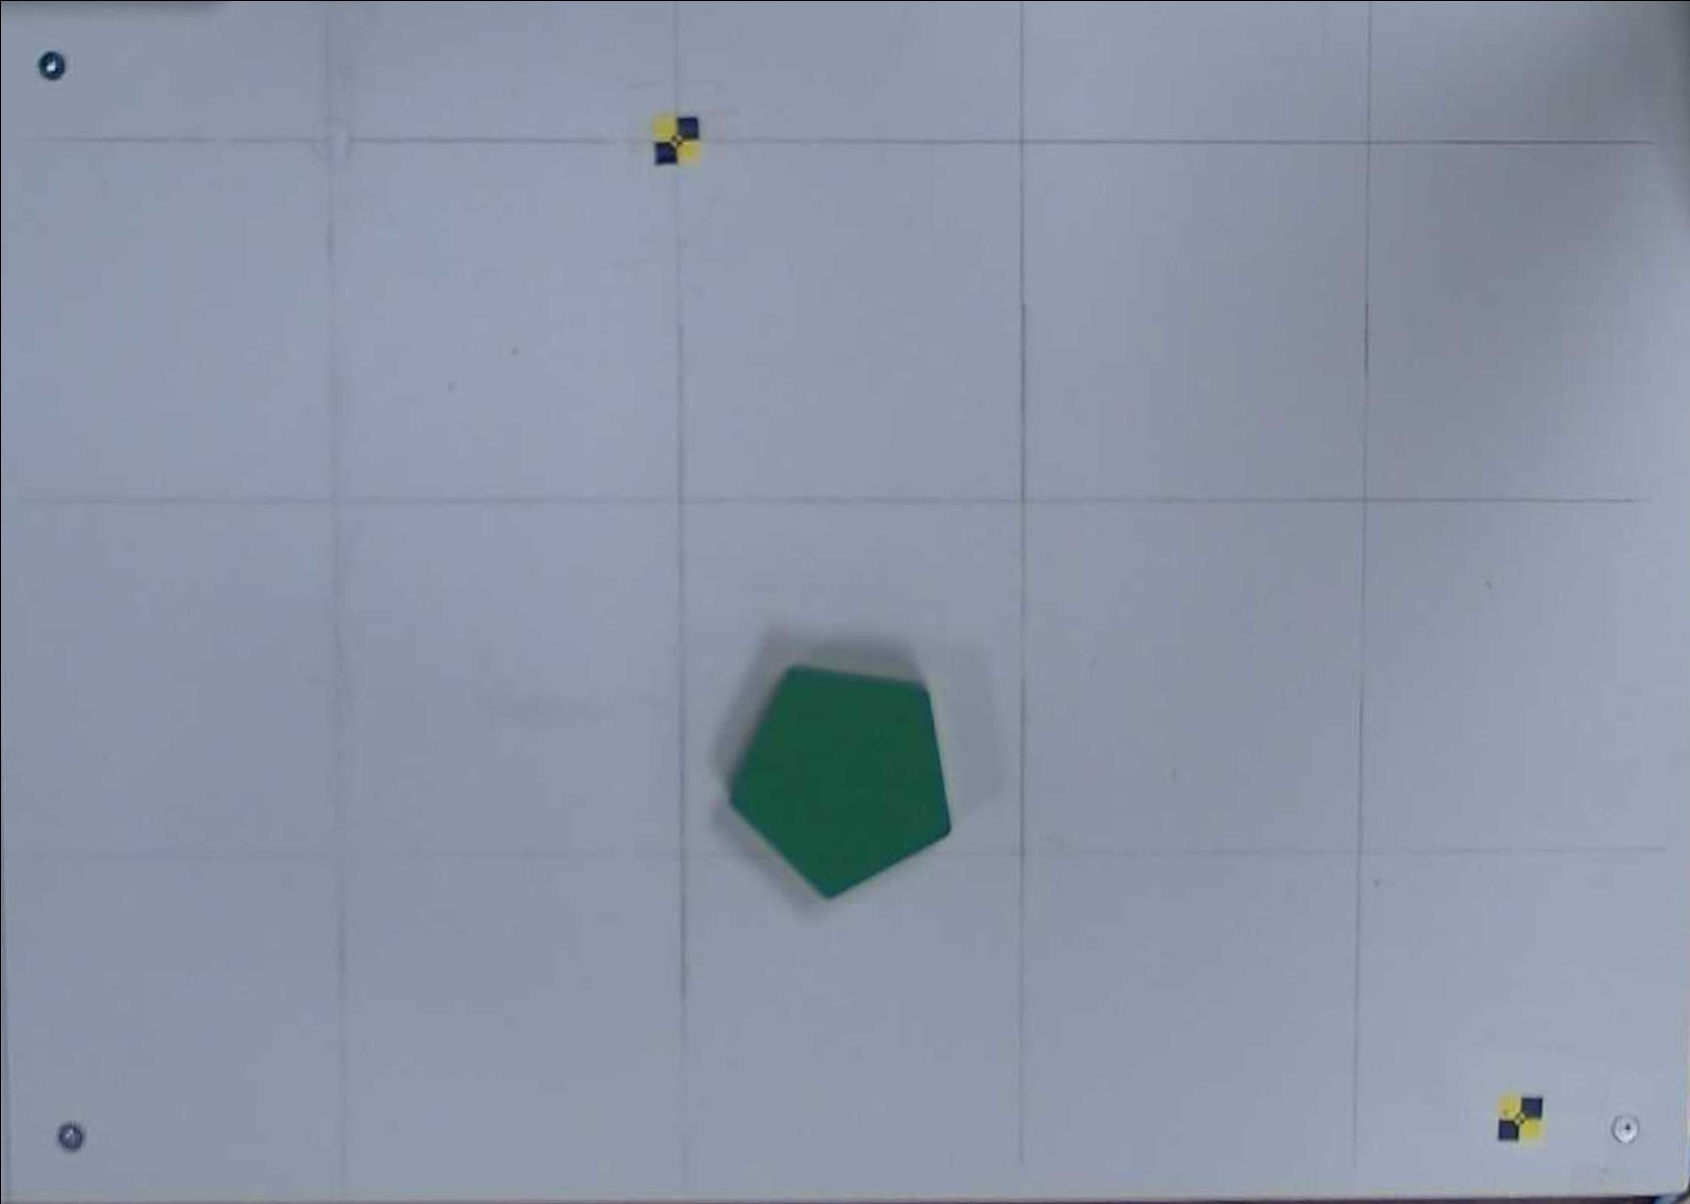Pentagon: (730, 667, 951, 899)
